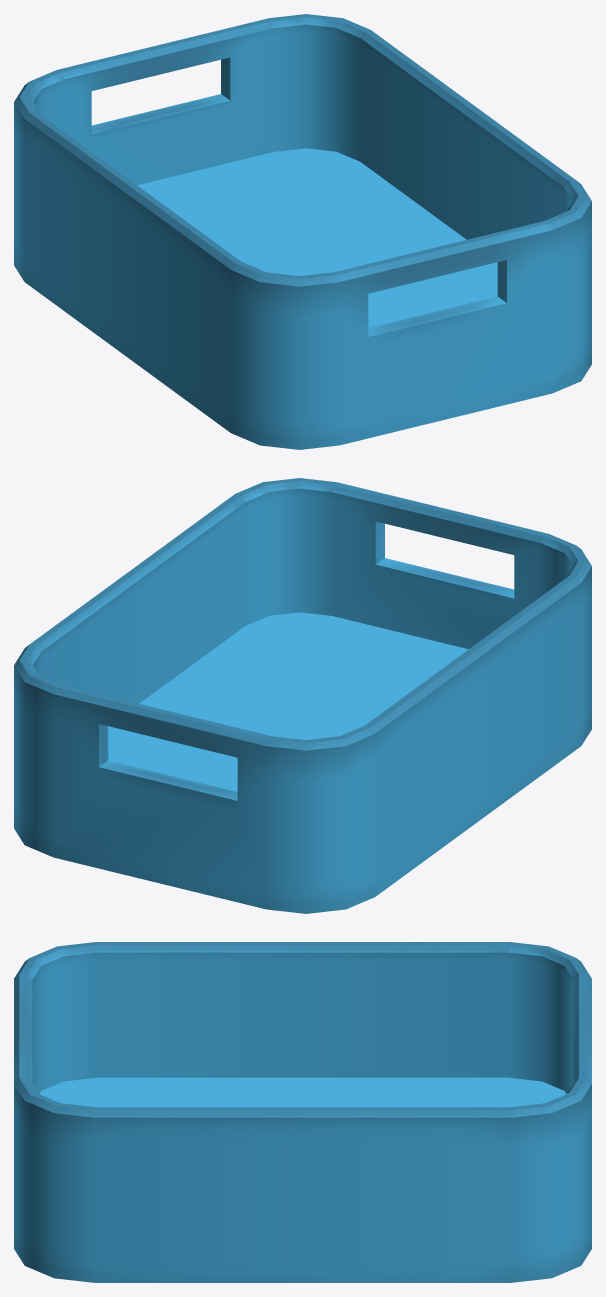
File: cloth_tray.fbx
The picture shows the model from 3 angles, top to bottom: view 1: azimuth 30°, elevation 25°; view 2: azimuth 150°, elevation 25°; view 3: azimuth 270°, elevation 25°; orthographic projection.
Visible parts, largest first — view 1: cloth_tray; view 2: cloth_tray; view 3: cloth_tray.
Boxes of the visible parts, left/top/right/bottom form: cloth_tray: left=14, top=14, right=591, bottom=449; cloth_tray: left=14, top=478, right=591, bottom=913; cloth_tray: left=14, top=942, right=591, bottom=1282.
Size of the model in its own units: 368 by 169 by 520.
